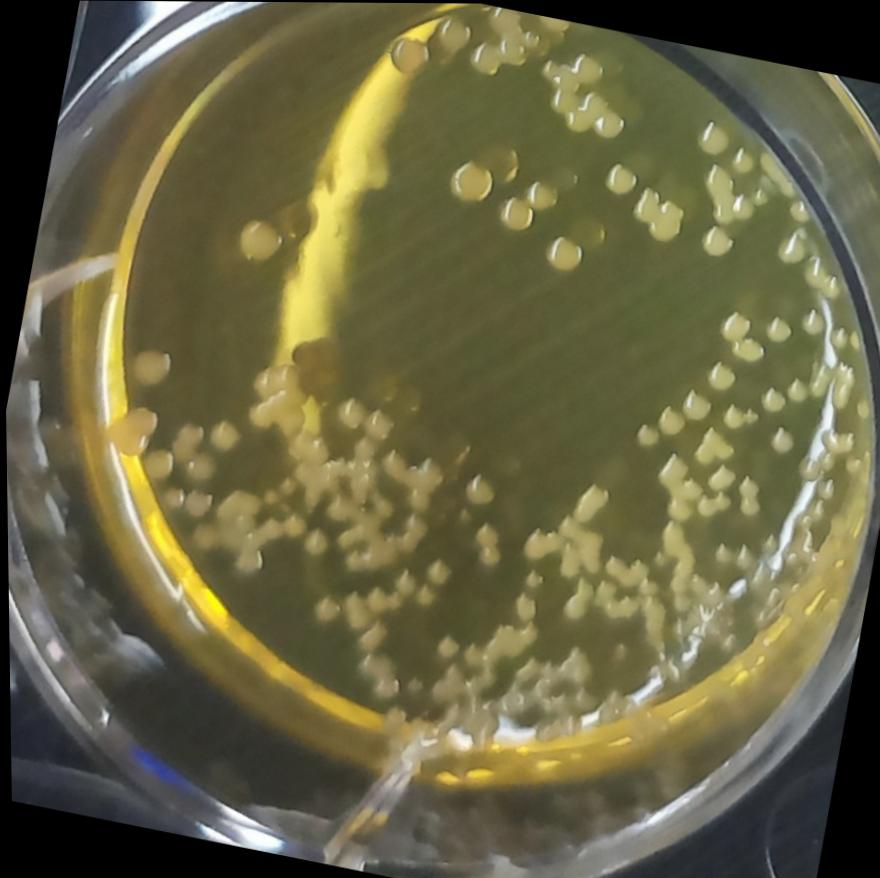vharveyi: (509, 466, 621, 588), (233, 352, 321, 446), (486, 164, 565, 244), (93, 395, 164, 465), (222, 206, 289, 275), (437, 152, 501, 212), (375, 26, 439, 86), (120, 340, 180, 395), (534, 226, 590, 276)
